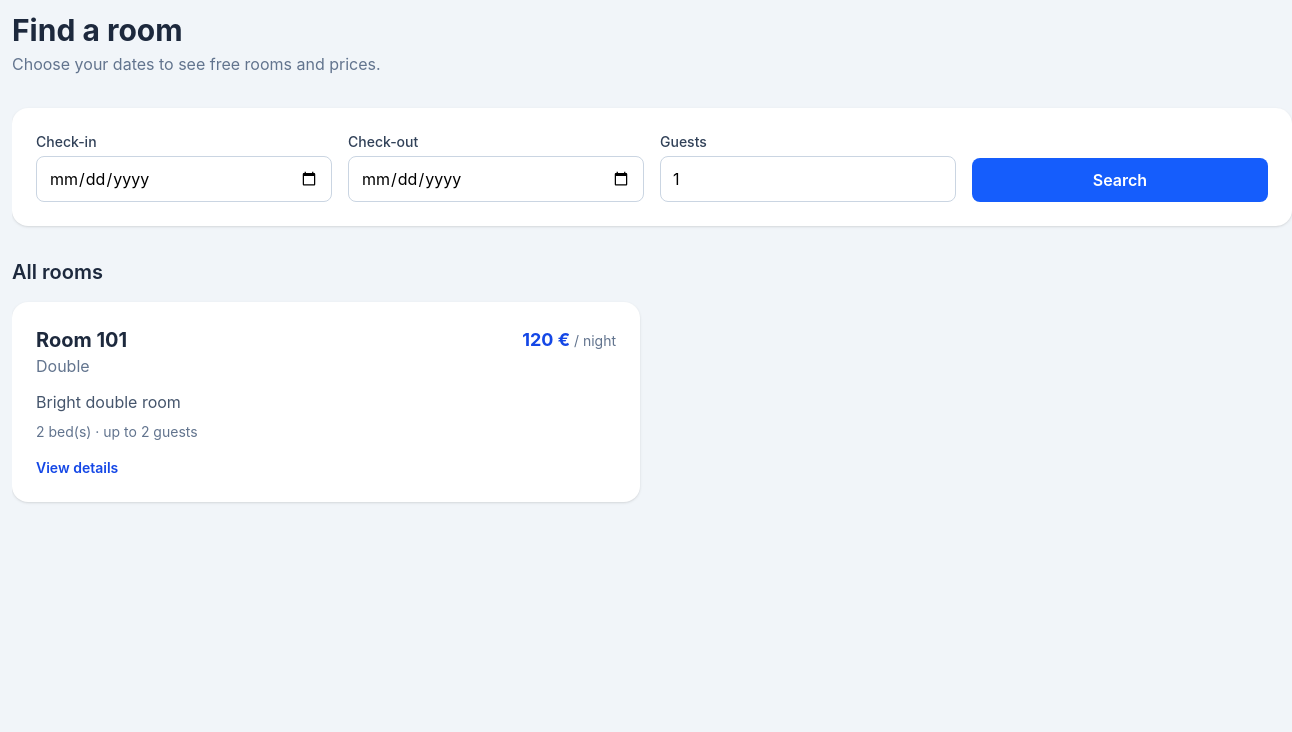
Test: RoomsPage › shows the total price and a Book button for a customer after searching
The image size is (1292, 732).
expect the heading "Room 101" is shown: met, box 36,326 -> 127,354
Type "2030-01-10" into the date field below "Check-in" at (184, 179), box 36,156 -> 332,202
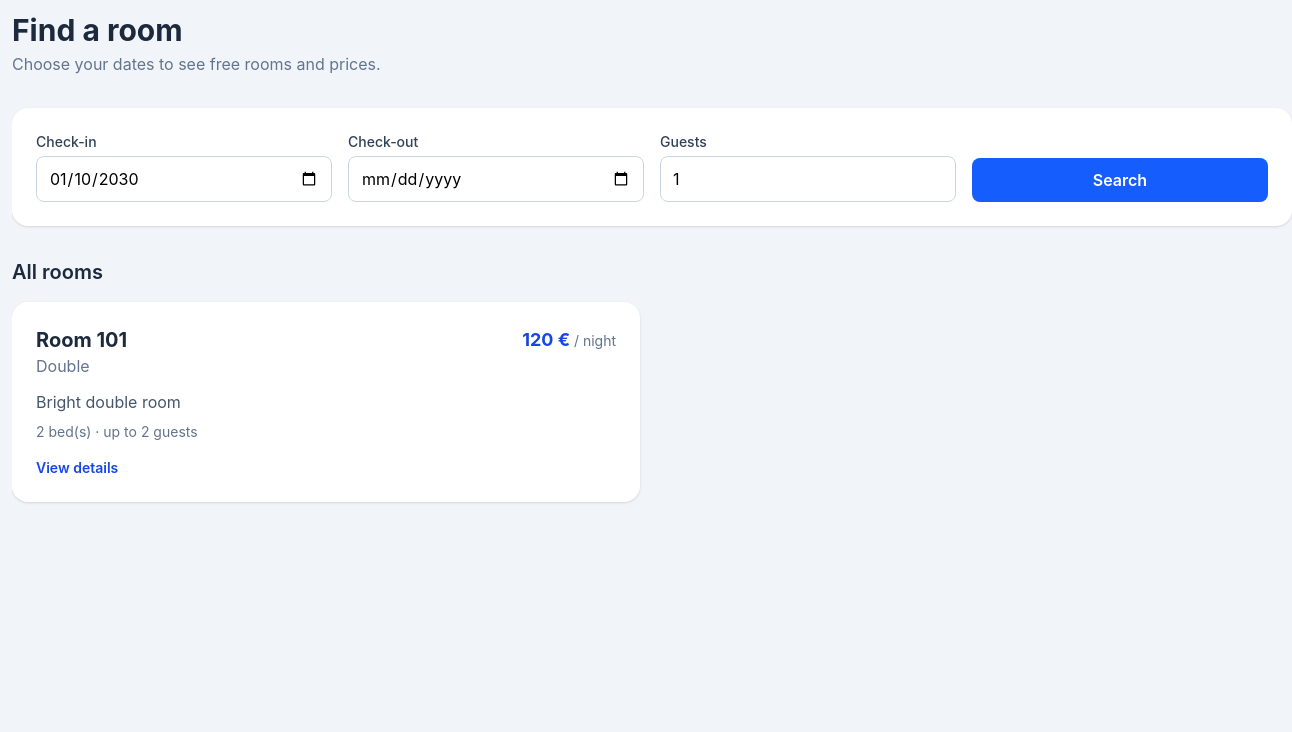
Type "2030-01-12" into the date field below "Check-out" at (496, 179), box 348,156 -> 644,202
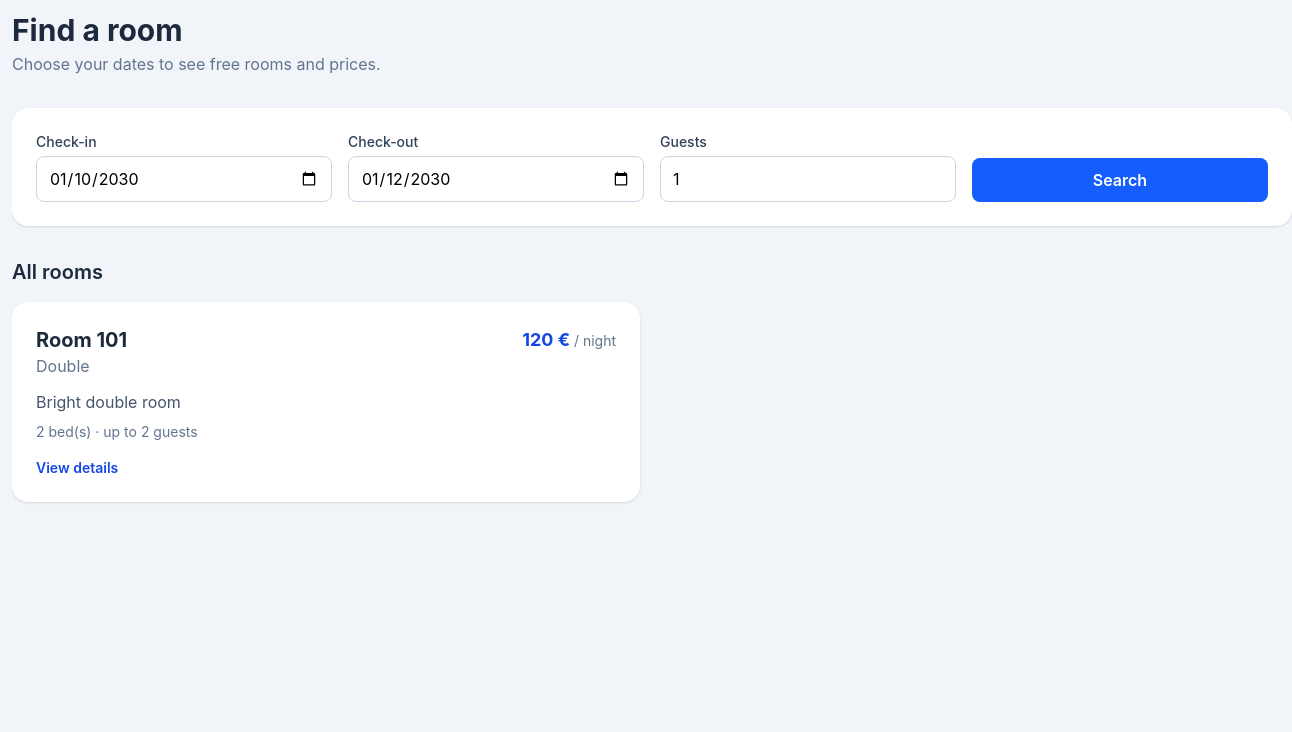
Click the button "Search" at (1120, 180), box 972,158 -> 1268,202
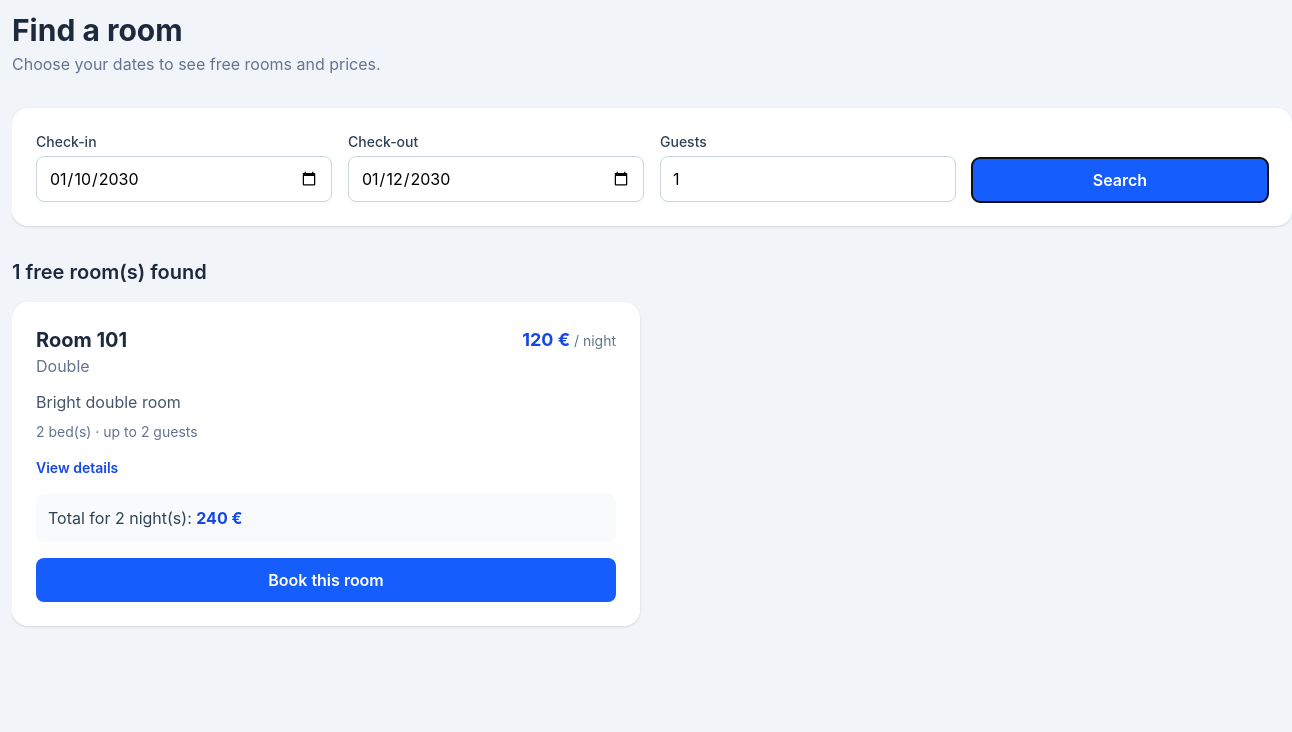
expect the text "240 €" is shown: met, box 196,508 -> 242,528
expect the button "Book this room" is shown: met, box 36,558 -> 616,602
